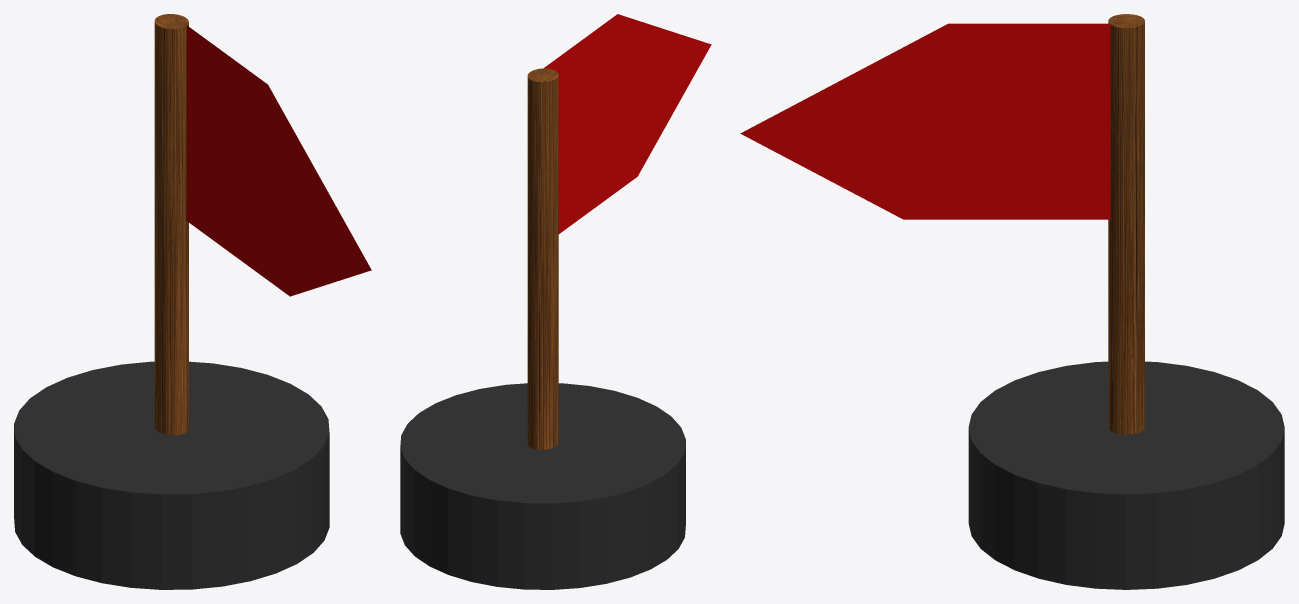
File: blender_flag.glb
3 renders of one model, left to right at view 1: azimuth 30°, elevation 25°; view 2: azimuth 150°, elevation 25°; view 3: azimuth 270°, elevation 25°, orthographic. The views are drawn at different scales.
Parts seen in each view (by area): view 1: Cylinder, Plane, Cylinder.001; view 2: Cylinder, Plane, Cylinder.001; view 3: Cylinder, Plane, Cylinder.001.
Part boxes in pixels (x1,y1,x2,y2): Cylinder: (14,361,329,589); Plane: (186,25,371,296); Cylinder.001: (154,14,188,435); Cylinder: (400,383,685,589); Plane: (544,14,711,233); Cylinder.001: (527,68,558,449); Cylinder: (968,361,1284,589); Plane: (740,23,1110,219); Cylinder.001: (1108,14,1144,434).
Bounding box in the file's own units: 1.79 × 3.15 × 3.09.
3 materials, 1 textured.
